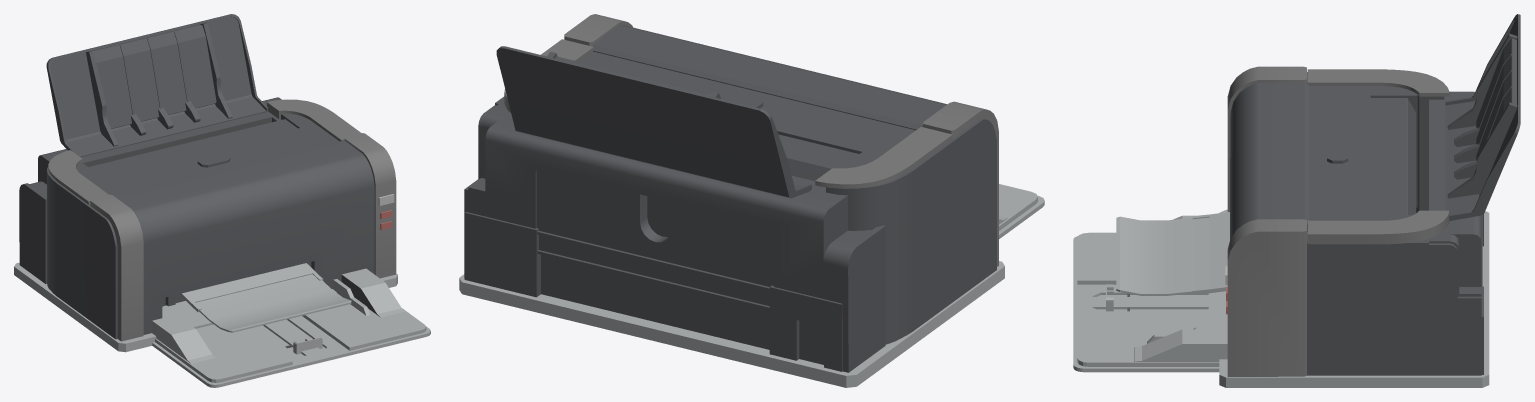
The model's file is xd-kzs-dyj.FBX.
3 renders of one model, left to right at view 1: azimuth 30°, elevation 25°; view 2: azimuth 150°, elevation 25°; view 3: azimuth 270°, elevation 25°, orthographic. The views are drawn at different scales.
Parts seen in each view (by area): view 1: xd-kzs-dyj; view 2: xd-kzs-dyj; view 3: xd-kzs-dyj.
Boxes of the visible parts, bbox=[...] form: xd-kzs-dyj: bbox=[14, 14, 430, 387]; xd-kzs-dyj: bbox=[459, 14, 1044, 387]; xd-kzs-dyj: bbox=[1073, 14, 1520, 387].
Bounding box in the file's own units: 5.39 × 3.57 × 6.08.
